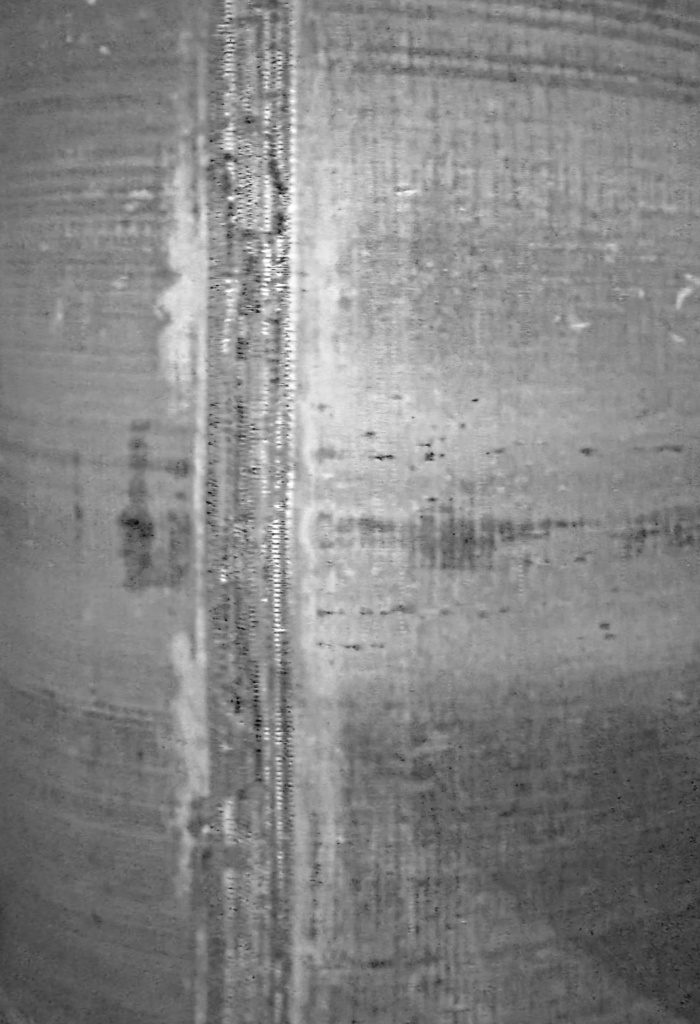splice: (197, 2, 302, 1024)
